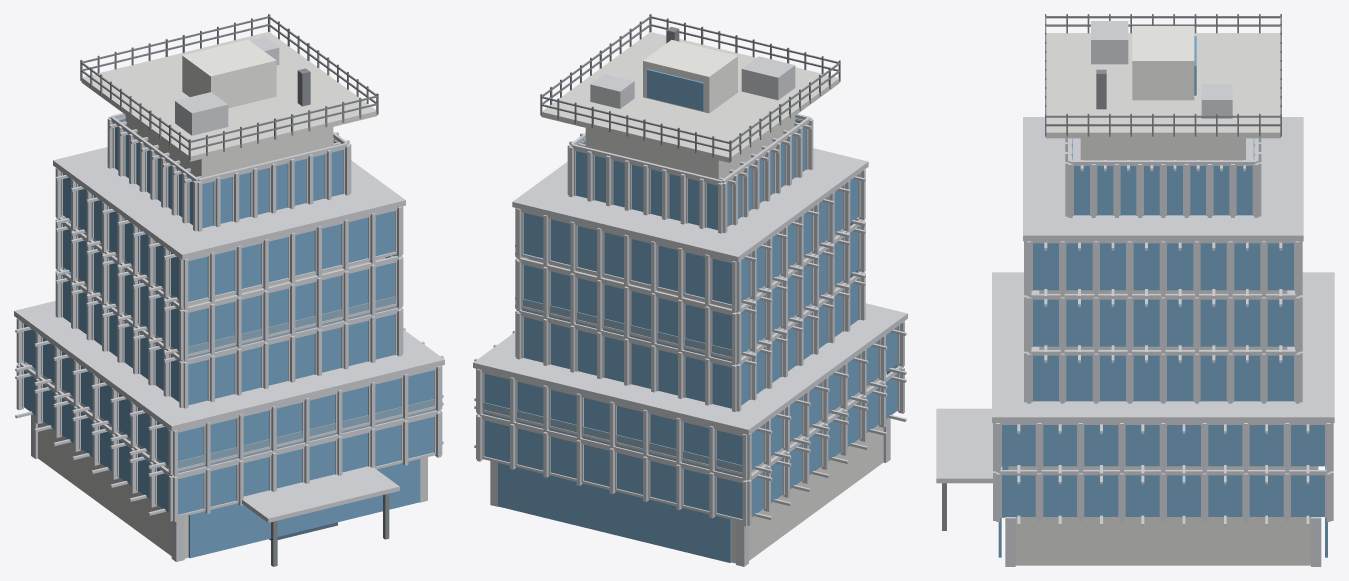
File: office_a.glb
The picture shows the model from 3 angles, left to right: view 1: azimuth 30°, elevation 25°; view 2: azimuth 150°, elevation 25°; view 3: azimuth 270°, elevation 25°; orthographic projection. The views are drawn at different scales.
Parts seen in each view (by area): view 1: A_deck, A_ledge1, A_ledge2, A_lobby_glass_S, A_core0, A_penthouse, A_canopy, A_core2, A_mech1, A_band_0_0S, A_band_0_1S.001, A_band_0_0S.001 (+55 smaller); view 2: A_deck, A_ledge1, A_ledge2, A_lobby_glass_N, A_core0, A_penthouse, A_core2, A_mech1, A_ph_glass, A_band_0_0N, A_mech2, A_band_0_1N.001 (+56 smaller); view 3: A_deck, A_ledge1, A_ledge2, A_core0, A_penthouse, A_canopy, A_core2, A_band_0_0E, A_mech1, A_core1, A_g_0_0_3E, A_g_0_0_5E (+58 smaller).
Part boxes in pixels (x1,y1,x2,y2): A_deck: (81, 32, 377, 161); A_ledge1: (14, 301, 444, 431); A_ledge2: (53, 147, 405, 259); A_lobby_glass_S: (188, 459, 420, 558); A_core0: (34, 369, 188, 558); A_penthouse: (182, 39, 276, 108); A_canopy: (242, 466, 399, 522); A_core2: (125, 115, 333, 177); A_mech1: (175, 92, 228, 135); A_band_0_0S: (174, 410, 438, 477); A_band_0_1S.001: (184, 255, 399, 311); A_band_0_0S.001: (184, 307, 399, 363); A_deck: (541, 32, 839, 162); A_ledge1: (473, 303, 907, 434); A_ledge2: (512, 148, 868, 261); A_lobby_glass_N: (498, 463, 731, 562); A_core0: (731, 372, 886, 563); A_penthouse: (643, 40, 737, 113); A_core2: (585, 116, 795, 179); A_mech1: (741, 56, 795, 100); A_ph_glass: (647, 69, 704, 111); A_band_0_0N: (480, 413, 746, 481); A_mech2: (590, 74, 634, 108); A_band_0_1N.001: (519, 258, 735, 314); A_deck: (1045, 33, 1280, 138); A_ledge1: (992, 272, 1334, 422); A_ledge2: (1023, 117, 1303, 241); A_core0: (1008, 466, 1318, 565); A_penthouse: (1132, 26, 1194, 100); A_canopy: (936, 408, 1002, 483); A_core2: (1080, 138, 1245, 160); A_band_0_0E: (998, 470, 1328, 475); A_mech1: (1091, 21, 1128, 64); A_core1: (1039, 290, 1287, 349); A_g_0_0_3E: (1125, 475, 1159, 516); A_g_0_0_5E: (1208, 475, 1242, 516).
Size of what is drawn, in the model's own units: 17.86 by 24.4 by 19.3.
